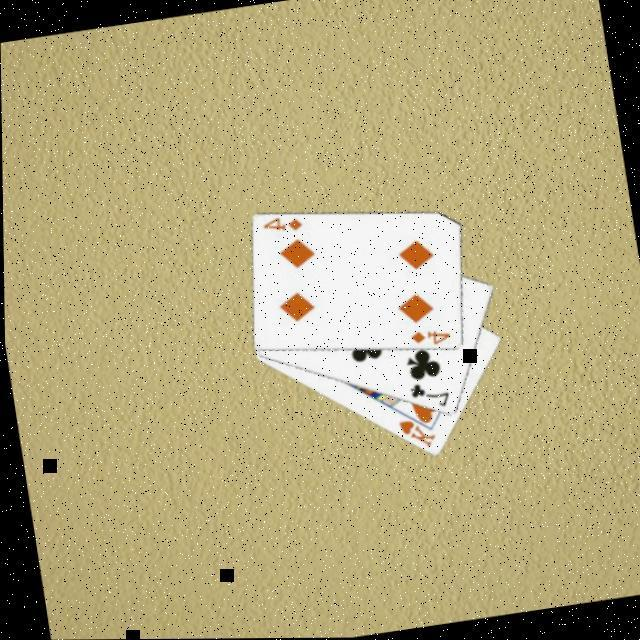4D: (408, 326, 455, 352), (260, 213, 307, 239)
7C: (406, 377, 454, 415)
KH: (396, 414, 440, 456)
